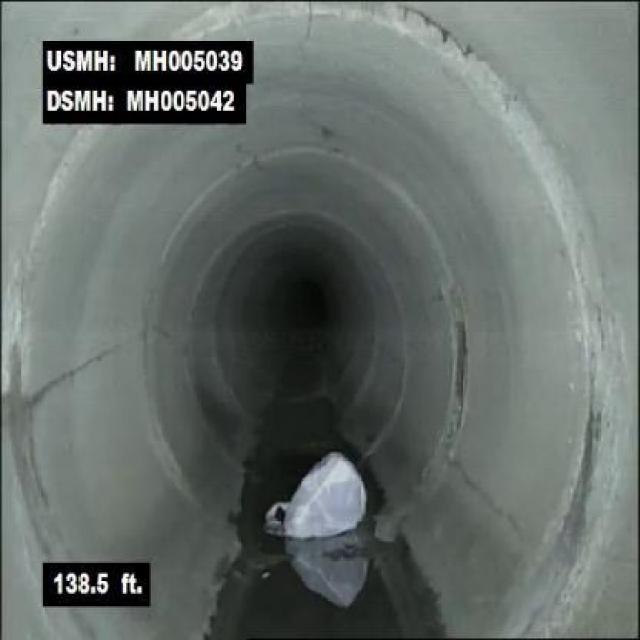Crack: (24, 328, 144, 414), (457, 455, 538, 560), (292, 9, 317, 100)
Joint offset: (408, 14, 558, 169)
